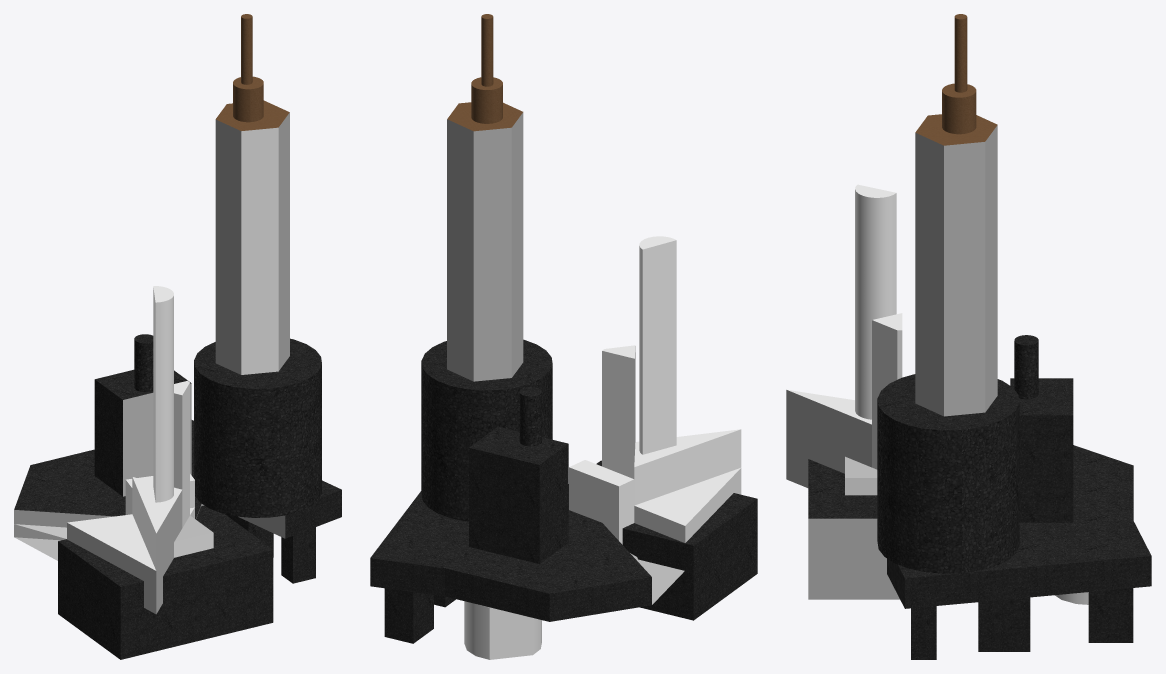
Rendered from marble-mine.fbx.
The picture shows the model from 3 angles, left to right: view 1: azimuth 30°, elevation 25°; view 2: azimuth 150°, elevation 25°; view 3: azimuth 270°, elevation 25°; orthographic projection. The views are drawn at different scales.
Parts seen in each view (by area): view 1: Component_1_1; view 2: Component_1_1; view 3: Component_1_1.
Part boxes in pixels (x1,y1,x2,y2): Component_1_1: (14, 14, 341, 659); Component_1_1: (370, 14, 757, 659); Component_1_1: (786, 14, 1151, 659).
Size of the model in its own units: 6.65 by 13.28 by 7.11.
